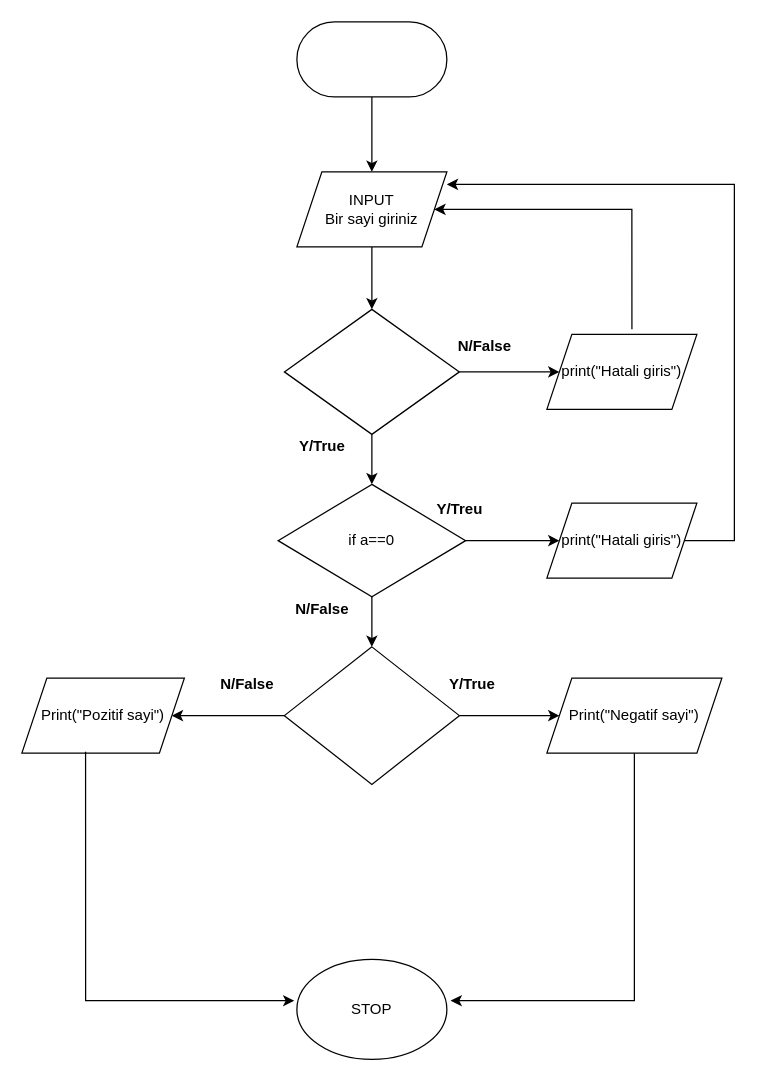
This 766x1081 diagram has some shape labels left out. Here are the shapes that lost their labels. From the top down, the centre of each, then its label:
the point at 371,59: START
the point at 371,371: if type(a)==int
the point at 371,715: if a<0
